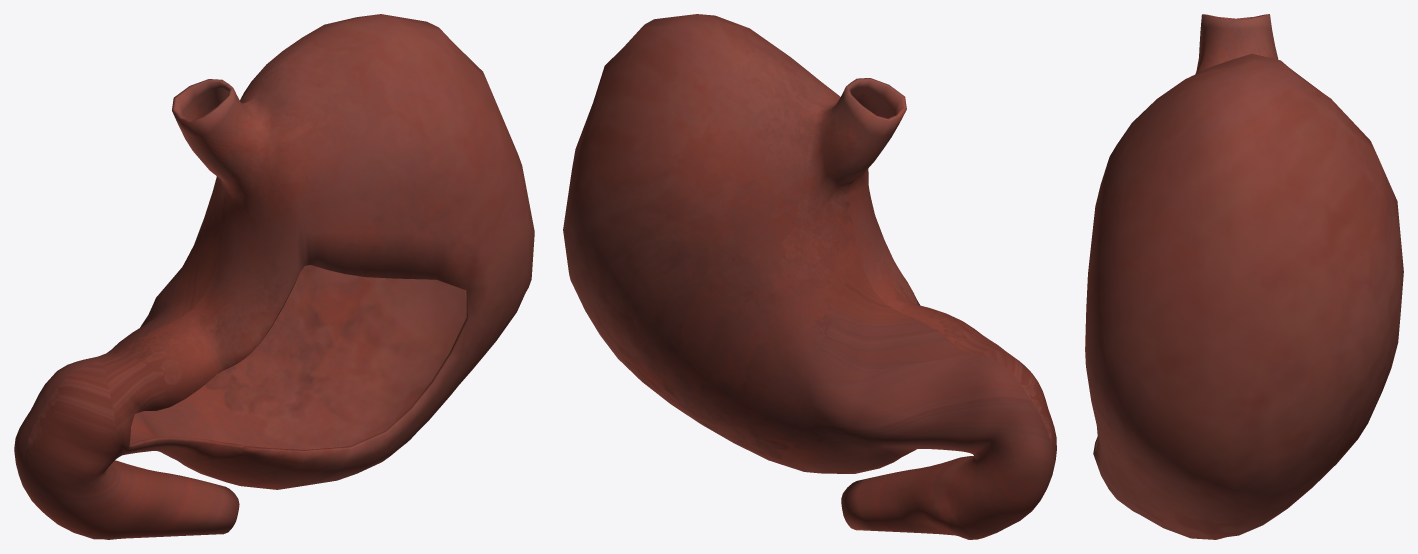
The model's file is Estomago.fbx.
3 renders of one model, left to right at view 1: azimuth 30°, elevation 25°; view 2: azimuth 150°, elevation 25°; view 3: azimuth 270°, elevation 25°, orthographic. The views are drawn at different scales.
Visible parts, largest first — view 1: Cube; view 2: Cube; view 3: Cube.
Part boxes in pixels (bbox=[...]): Cube: bbox=[14, 14, 534, 539]; Cube: bbox=[563, 14, 1056, 539]; Cube: bbox=[1085, 14, 1403, 539].
Bounding box in the file's own units: 1378 × 1278 × 686.
